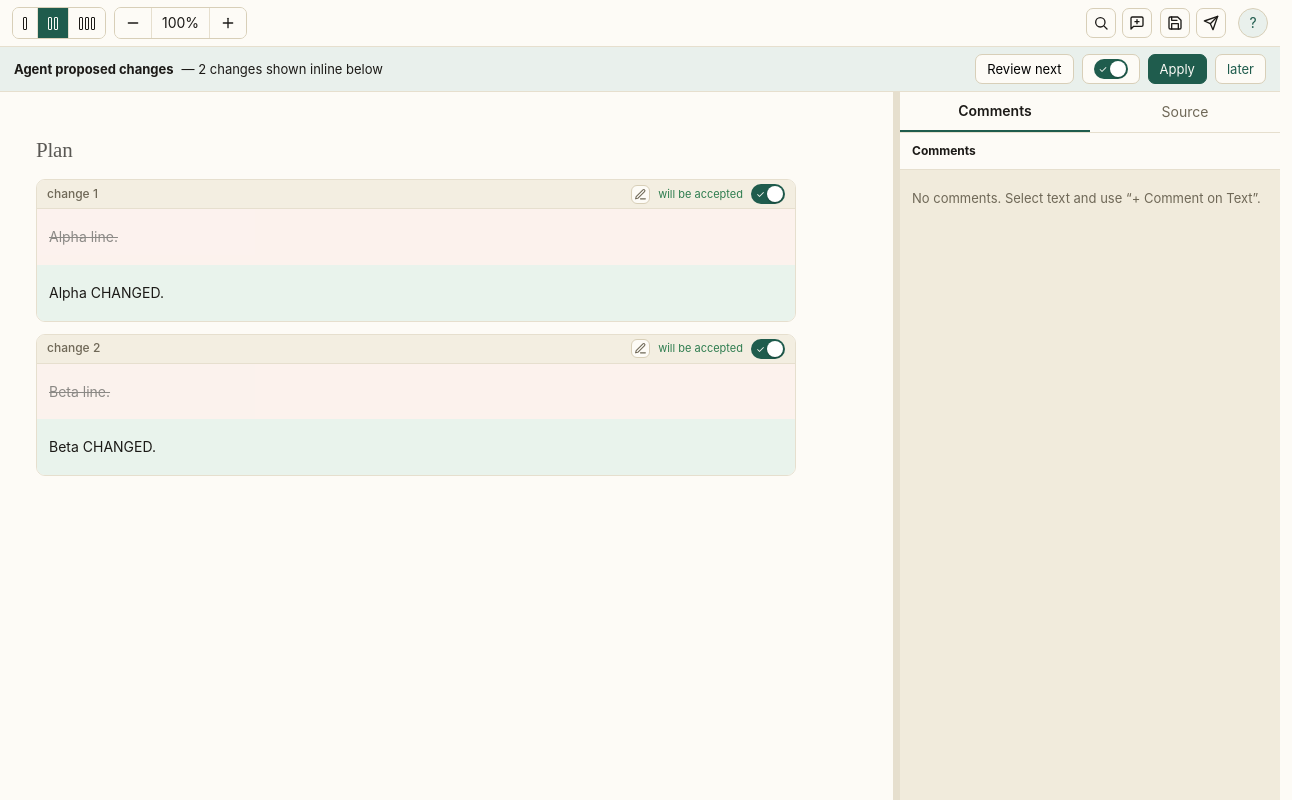
it: review state initializes synchronously with the proposal › a per-hunk reject clicked in the review's FIRST commit takes effect and survives
The image size is (1292, 800).
Click the switch named "accept change 1" at (768, 194), box left=751, top=184, right=785, bottom=204
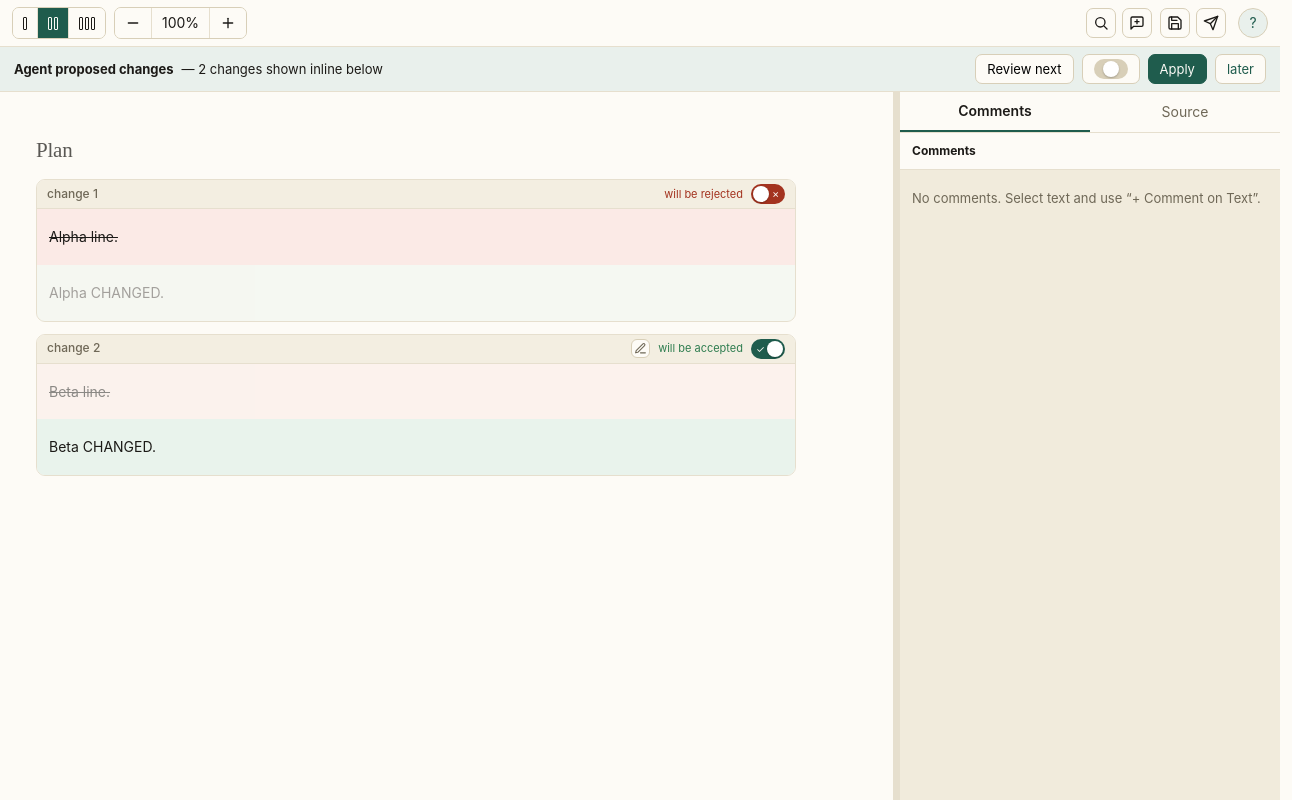
Result: the switch named "accept change 1" is not checked at left=751, top=184, right=785, bottom=204
Result: the checkbox with class "ap-tri--mixed" is shown at left=1082, top=54, right=1140, bottom=84
Note: And it is the state Apply uses: hunk 1 rejected, hunk 2 accepted.
Click the button "Apply" at (1177, 69), box left=1148, top=54, right=1207, bottom=84
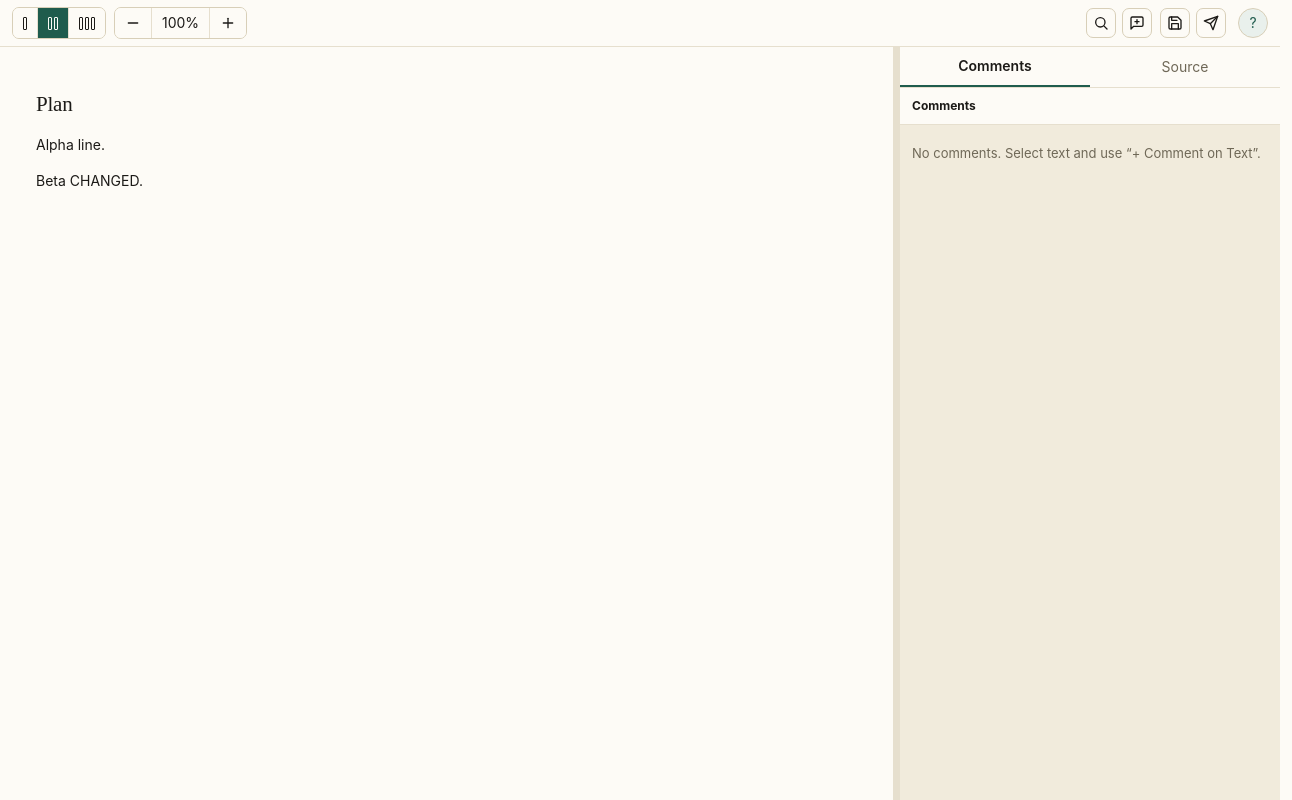
Expected: the text "Alpha line." is shown, left=36, top=136, right=105, bottom=153
Result: the text "Agent proposed changes" is gone
Result: the text "Alpha CHANGED." is gone
